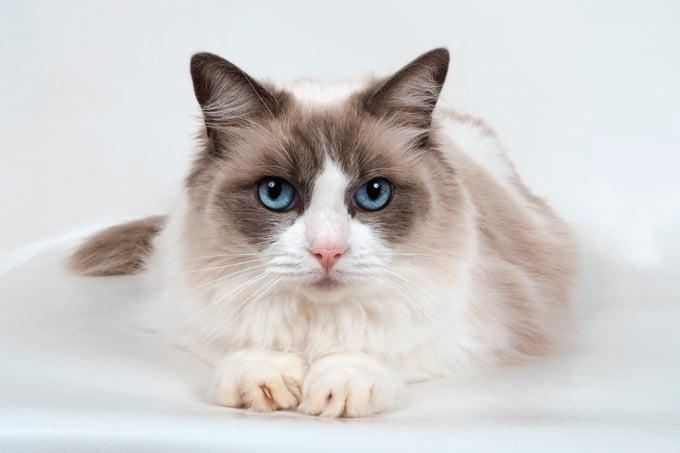ragdoll: (182, 41, 461, 316)
